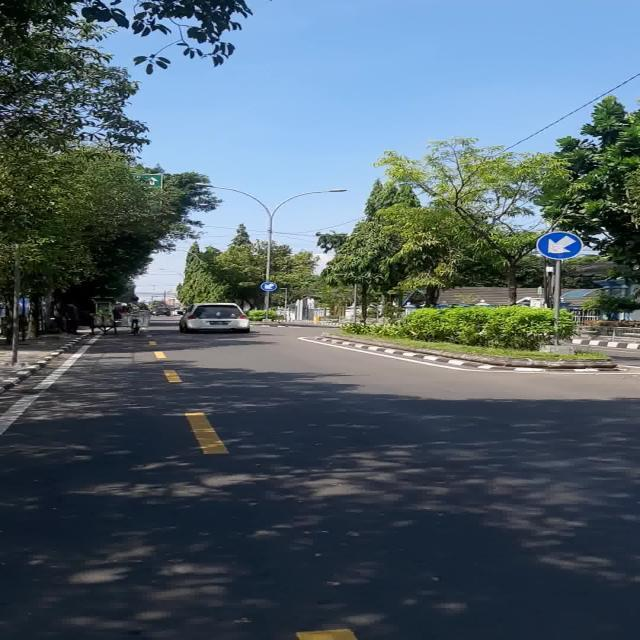Lajur Kiri: (536, 232, 583, 260)
